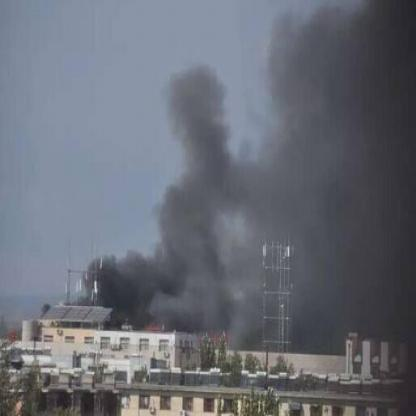smoke: (268, 12, 409, 172), (275, 172, 410, 300), (91, 250, 217, 330), (156, 176, 276, 254), (164, 63, 236, 170), (264, 298, 413, 348), (216, 253, 259, 341)
